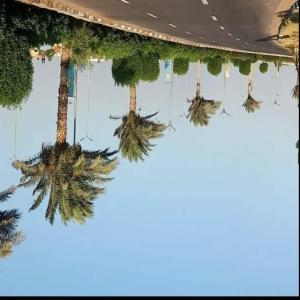palm tree: (109, 52, 168, 163), (0, 24, 34, 159), (180, 57, 222, 127)
